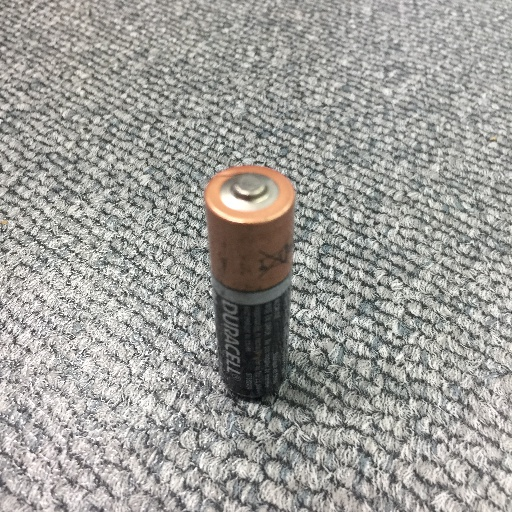Battery_0: (197, 158, 299, 414)
